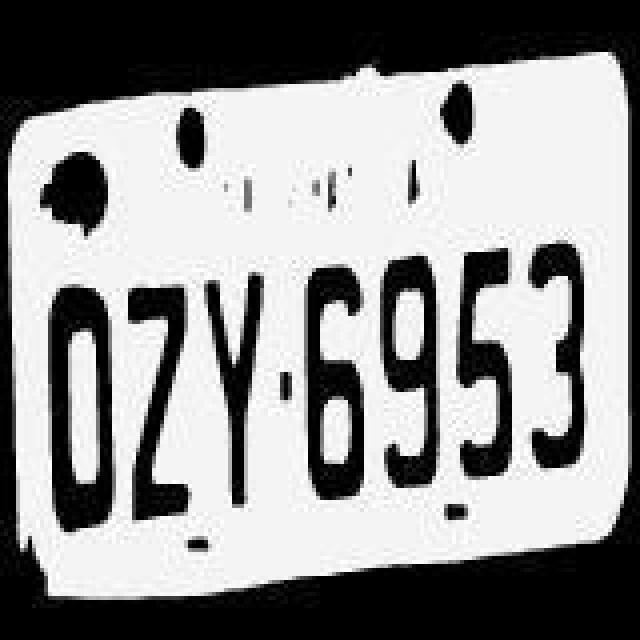3: (522, 214, 598, 474)
5: (448, 214, 528, 482)
6: (300, 254, 372, 514)
9: (374, 240, 442, 496)
O: (38, 284, 122, 548)
Y: (196, 262, 268, 530)
Z: (116, 276, 204, 540)
